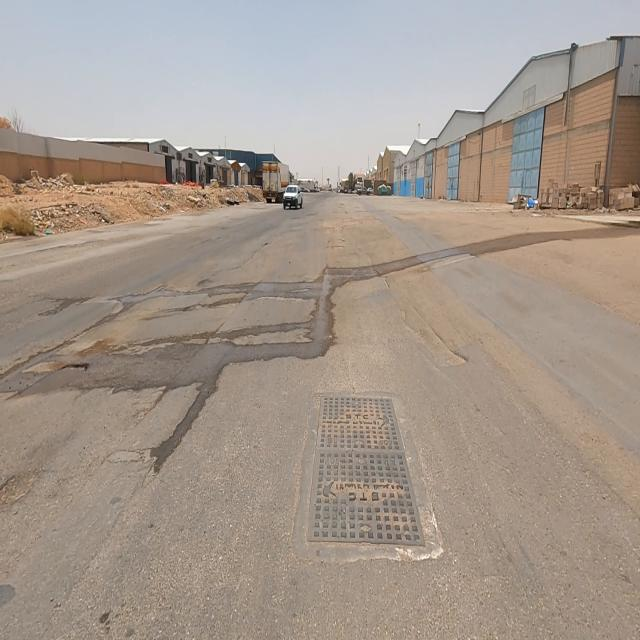Manhole: (308, 396, 424, 547)
Pothole: (22, 362, 88, 394), (425, 327, 466, 367), (0, 471, 38, 508)
